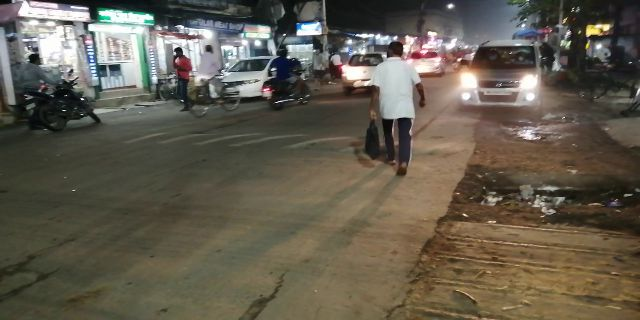Car: (458, 41, 546, 113)
Cycle: (181, 44, 245, 119)
Motorbike: (262, 44, 313, 110)
